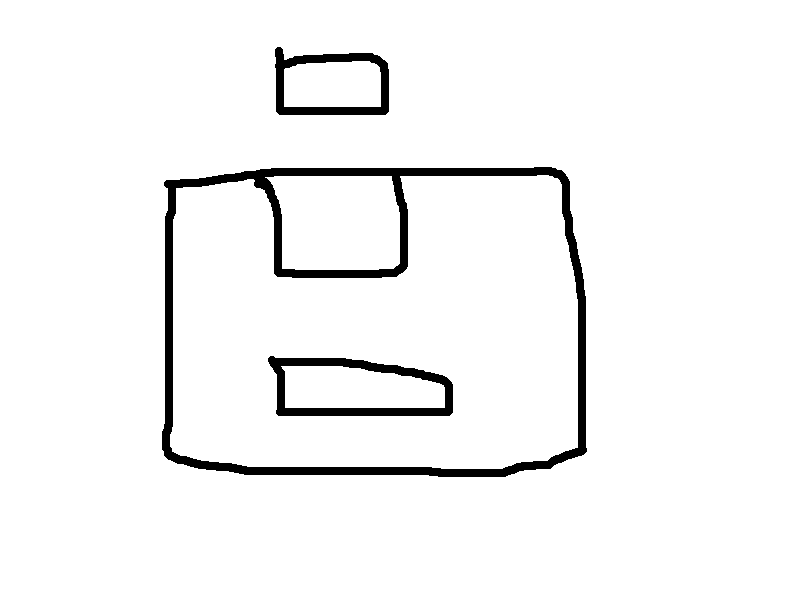dog: (251, 164, 418, 283), (266, 352, 462, 425), (273, 41, 395, 118)
rect: (158, 165, 593, 480)
